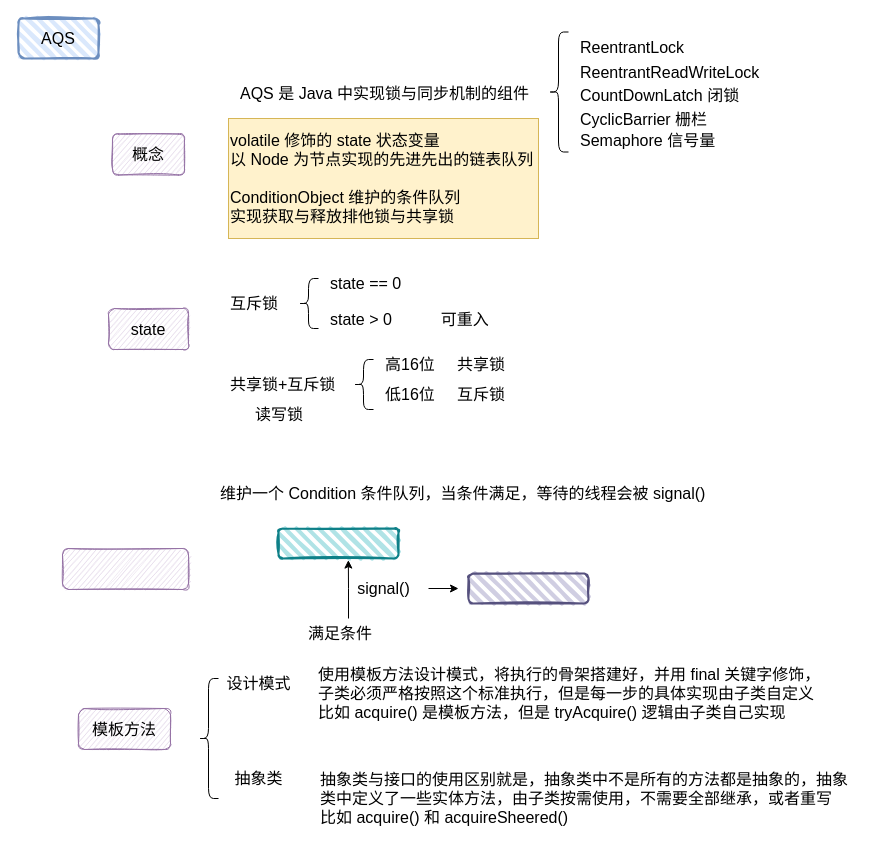
This 875x855 diagram has some shape labels left out. The centre of each missing label's shape, as x and y in pixels:
AQS 队列: the point at 528,588
Condition 队列: the point at 338,543
ConditionObject: the point at 125,569
